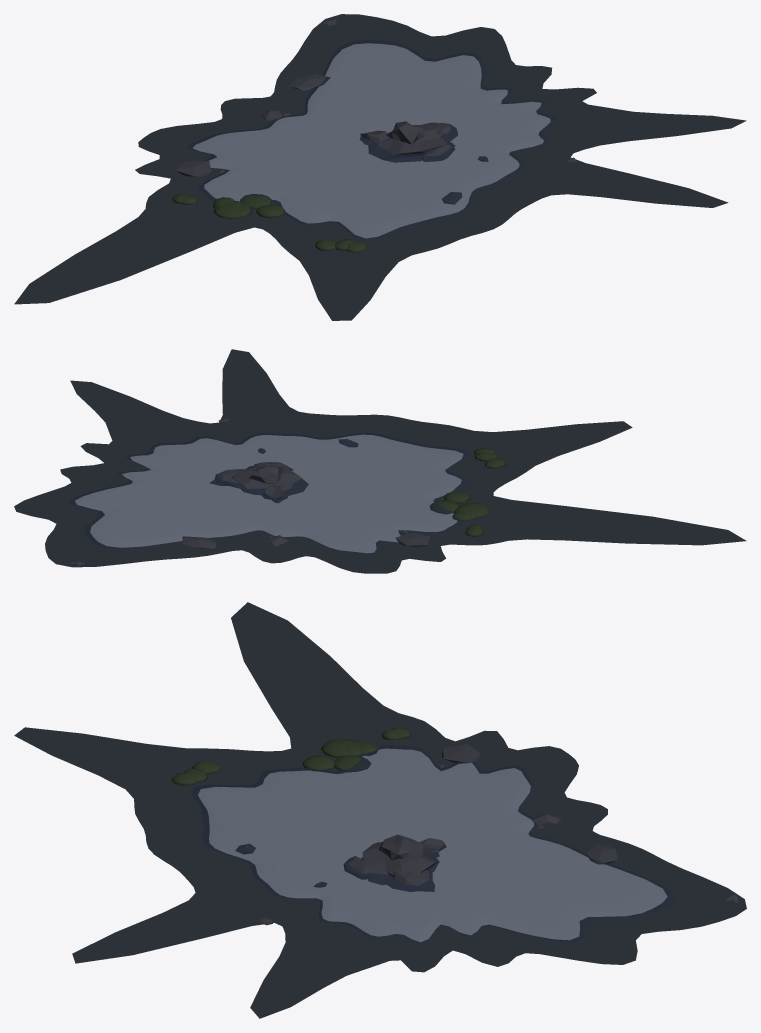
File: SM_Cripta_Poca_C.glb
3 views of the same model, one above another, from view 1: azimuth 30°, elevation 25°; view 2: azimuth 150°, elevation 25°; view 3: azimuth 270°, elevation 25° (orthographic). The views are drawn at different scales.
Parts seen in each view (by area): view 1: Anel, Agua, Pedrinhas, Limo; view 2: Anel, Agua, Pedrinhas, Limo; view 3: Anel, Agua, Pedrinhas, Limo.
Part boxes in pixels (<box>): Anel: <box>14,14,746,320</box>; Agua: <box>187,39,555,240</box>; Pedrinhas: <box>175,19,576,204</box>; Limo: <box>172,194,367,252</box>; Anel: <box>14,349,746,573</box>; Agua: <box>68,432,468,554</box>; Pedrinhas: <box>69,418,429,566</box>; Limo: <box>430,447,506,536</box>; Anel: <box>14,602,746,1018</box>; Agua: <box>191,745,675,944</box>; Pedrinhas: <box>235,743,738,925</box>; Limo: <box>171,727,411,785</box>.
Size of the model in its own units: 3.29 by 0.0927 by 2.45.
